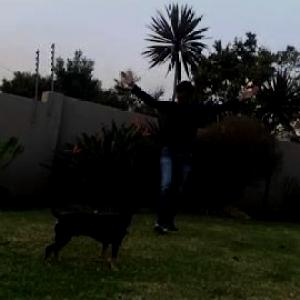takeoff: (122, 63, 264, 227)
